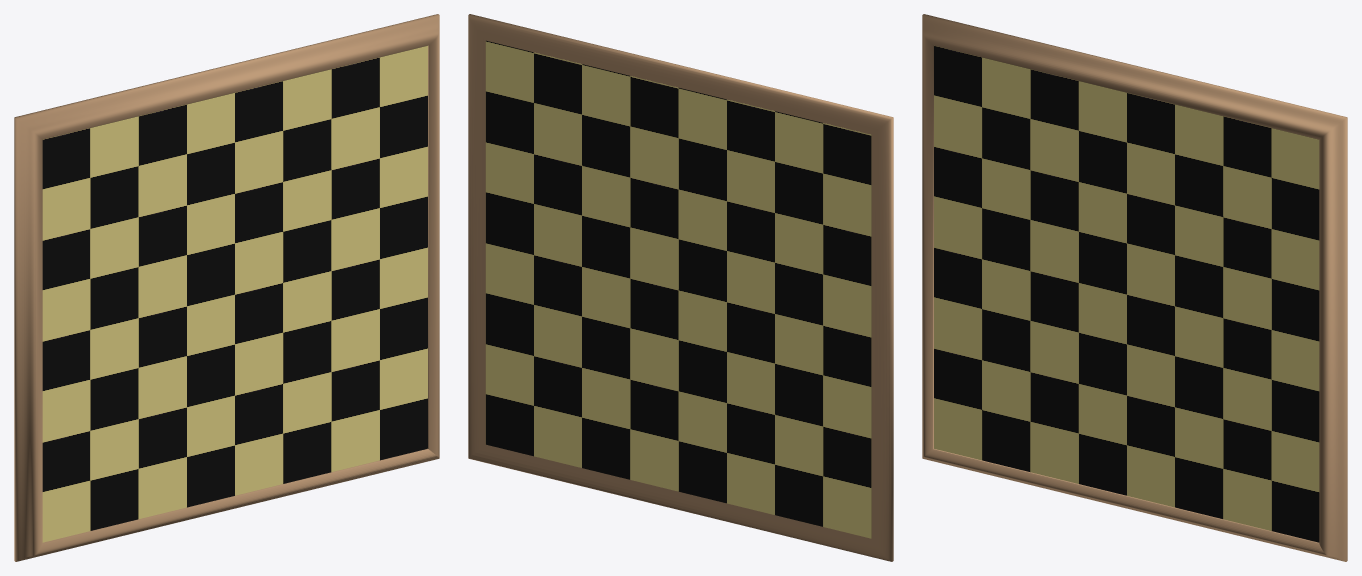
File: chessboard.fbx
3 renders of one model, left to right at view 1: azimuth 30°, elevation 25°; view 2: azimuth 150°, elevation 25°; view 3: azimuth 330°, elevation 25°, orthographic.
Parts seen in each view (by area): view 1: gms001.003; view 2: gms001.003; view 3: gms001.003.
Boxes of the visible parts, x1,y1,x2,y2 form: gms001.003: (14, 14, 439, 561); gms001.003: (468, 14, 893, 561); gms001.003: (922, 14, 1347, 561).
Size of the model in its own units: 44623 by 44623 by 2270.
2 materials, 1 textured.
